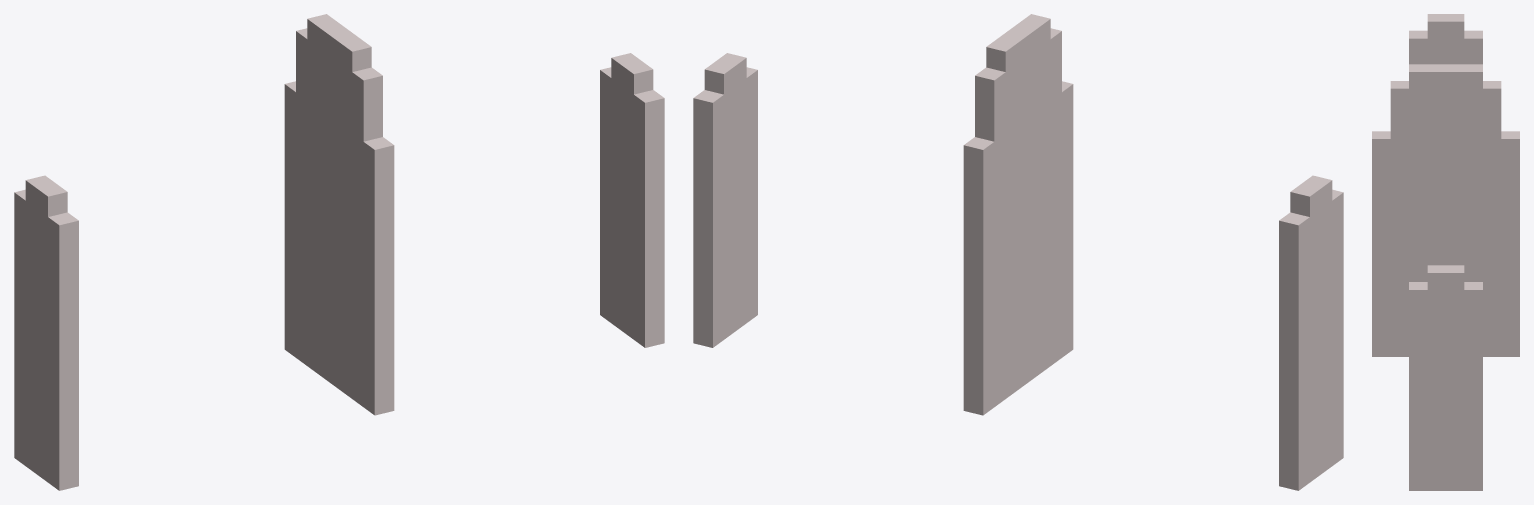
The model's file is SailDown.obj.
3 views of the same model, side by side, from view 1: azimuth 30°, elevation 25°; view 2: azimuth 150°, elevation 25°; view 3: azimuth 270°, elevation 25° (orthographic). The views are drawn at different scales.
Bounding box in the file's own units: 3.1 × 1.8 × 0.8.
Materials: 1 (1 with a texture image).
